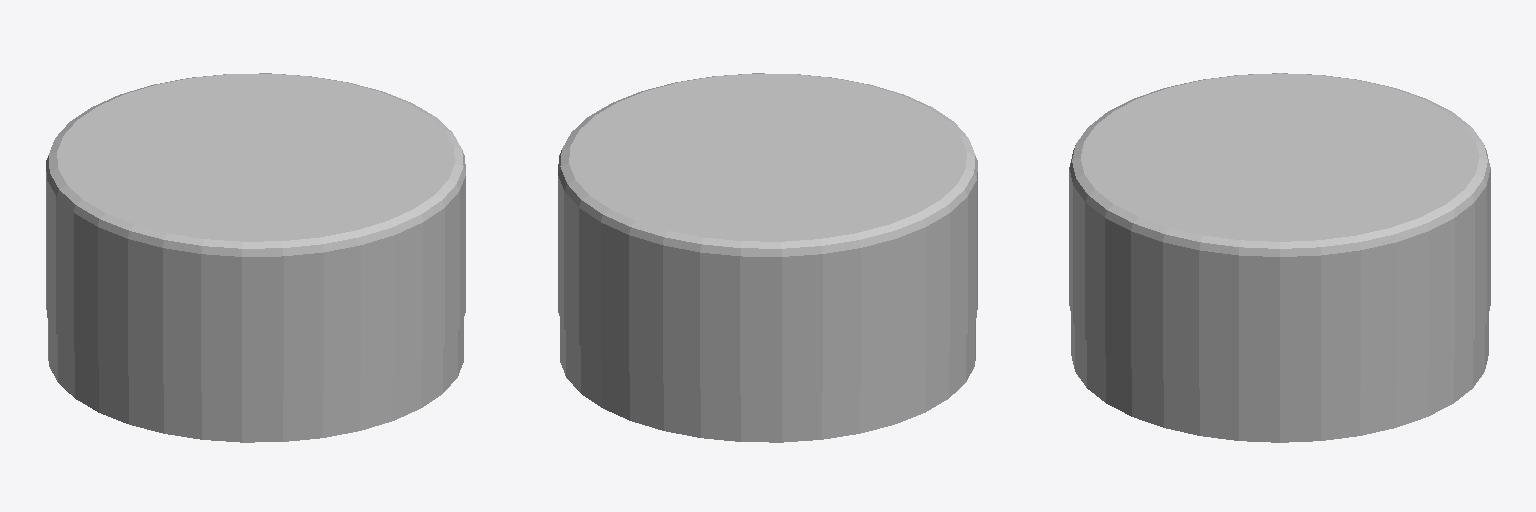
The model's file is mdl_tapa_nocarbonatada_caf5_28mm_1881.obj.
The picture shows the model from 3 angles: view 1: azimuth 30°, elevation 25°; view 2: azimuth 150°, elevation 25°; view 3: azimuth 270°, elevation 25°; orthographic projection.
Visible parts, largest first — view 1: mdl_tapa_nocarbonatada_caf5_28mm_1881; view 2: mdl_tapa_nocarbonatada_caf5_28mm_1881; view 3: mdl_tapa_nocarbonatada_caf5_28mm_1881.
Boxes of the visible parts, x1,y1,x2,y2 form: mdl_tapa_nocarbonatada_caf5_28mm_1881: [46, 73, 465, 442]; mdl_tapa_nocarbonatada_caf5_28mm_1881: [558, 73, 977, 442]; mdl_tapa_nocarbonatada_caf5_28mm_1881: [1069, 73, 1490, 442].
Size of the model in its own units: 3.1 by 1.6 by 3.1.